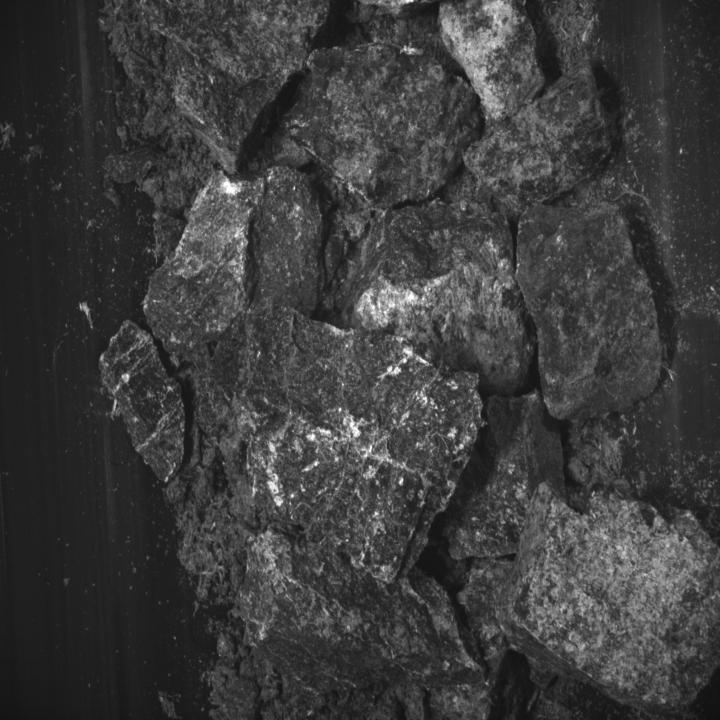stone: (192, 300, 483, 572), (206, 496, 479, 717), (498, 481, 719, 719), (253, 44, 480, 243), (325, 188, 536, 398), (103, 1, 327, 173), (517, 197, 661, 418), (462, 1, 611, 213), (146, 169, 265, 382), (442, 390, 567, 561), (98, 322, 184, 480), (440, 0, 546, 126), (253, 167, 324, 314)
